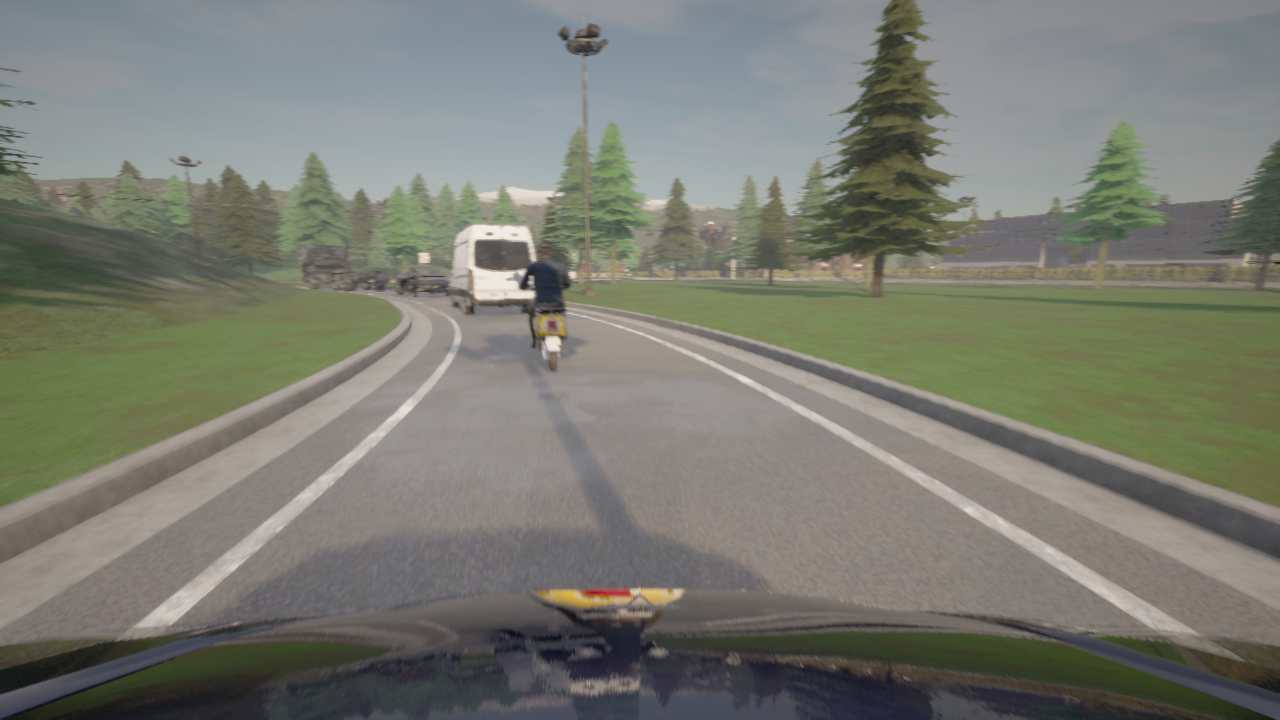cyclist: (0, 588, 1279, 719), (444, 224, 535, 314), (513, 270, 575, 371), (297, 243, 390, 291), (396, 268, 449, 297)
